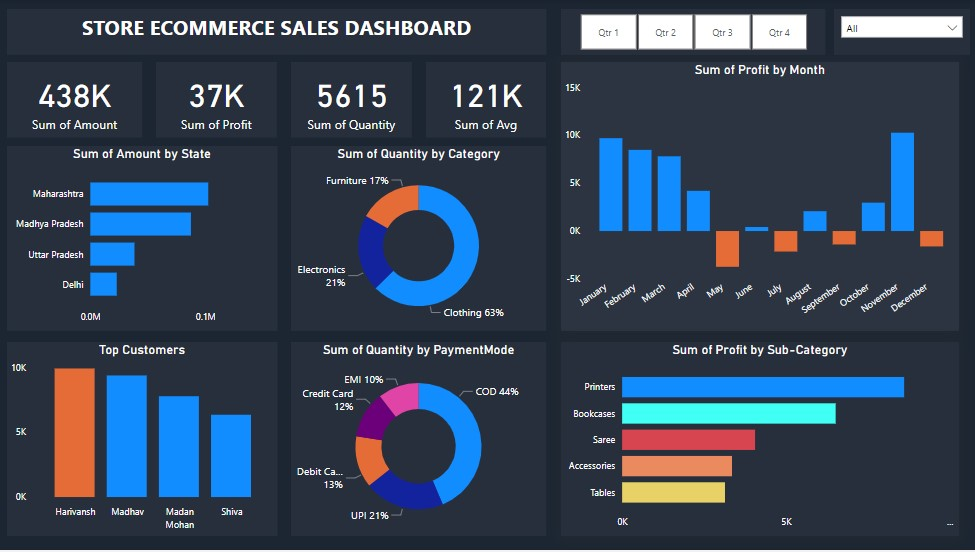

What the dashboard file says about the page in this screenshot:
{"tool":"powerbi","page":{"name":"Page 1","canvas":[1280,720],"ordinal":0},"visuals":[{"type":"textbox","title":"Ecommerce Sales","box":[10.4,11.9,706,60],"z":0},{"type":"columnChart","fields":{"Y":["Details.Profit"],"Category":["Orders.Order Date.Variation.Date Hierarchy.Month"]},"box":[735.8,80.6,520.9,352.2],"z":1000},{"type":"barChart","fields":{"Category":["Details.Sub-Category"],"Y":["Details.Profit"]},"box":[735.8,447.8,520.9,253.7],"z":2000},{"type":"donutChart","fields":{"Category":["Details.Category"],"Y":["Details.Quantity"]},"box":[382.1,191,334.3,241.8],"z":3000},{"type":"donutChart","fields":{"Y":["Details.Quantity"],"Category":["Details.PaymentMode"]},"box":[382.1,447.8,334.3,253.7],"z":4000},{"type":"card","fields":{"Values":["Details.Amount"]},"box":[10.4,80.6,153.7,100],"z":5000},{"type":"card","fields":{"Values":["Details.Profit"]},"box":[188.1,80.6,158.2,100],"z":6000},{"type":"card","fields":{"Values":["Details.Quantity"]},"box":[371.6,80.6,152.2,100],"z":7000},{"type":"card","fields":{"Values":["Details.Avg"]},"box":[549.3,80.6,167.2,100],"z":8000},{"type":"columnChart","title":"Top Customers","fields":{"Category":["Orders.CustomerName"],"Y":["Details.Amount"]},"box":[10.4,447.8,353.7,253.7],"z":9000},{"type":"barChart","fields":{"Y":["Details.Amount"],"Category":["Orders.State"]},"box":[10.4,191,353.7,241.8],"z":10000},{"type":"slicer","fields":{"Values":["Orders.Order Date.Variation.Date Hierarchy.Quarter"]},"box":[735.8,11.9,346.3,59.7],"z":10001},{"type":"slicer","fields":{"Values":["Orders.State"]},"box":[1092.5,11.9,177.6,59.7],"z":10002}]}

Visuals, with their boxes in screenshot pixels (x1, y1, x2, y2), scaled from the page's 1280x720 canvas onto the 975x552 screenshot:
"Ecommerce Sales" textbox: box(8, 9, 546, 55)
columnChart - Details.Profit x Orders.Order Date.Variation.Date Hierarchy.Month: box(560, 62, 957, 332)
barChart - Details.Sub-Category x Details.Profit: box(560, 343, 957, 538)
donutChart - Details.Category x Details.Quantity: box(291, 146, 546, 332)
donutChart - Details.Quantity x Details.PaymentMode: box(291, 343, 546, 538)
card - Details.Amount: box(8, 62, 125, 138)
card - Details.Profit: box(143, 62, 264, 138)
card - Details.Quantity: box(283, 62, 399, 138)
card - Details.Avg: box(418, 62, 546, 138)
"Top Customers" columnChart: box(8, 343, 277, 538)
barChart - Details.Amount x Orders.State: box(8, 146, 277, 332)
slicer - Orders.Order Date.Variation.Date Hierarchy.Quarter: box(560, 9, 824, 55)
slicer - Orders.State: box(832, 9, 967, 55)
